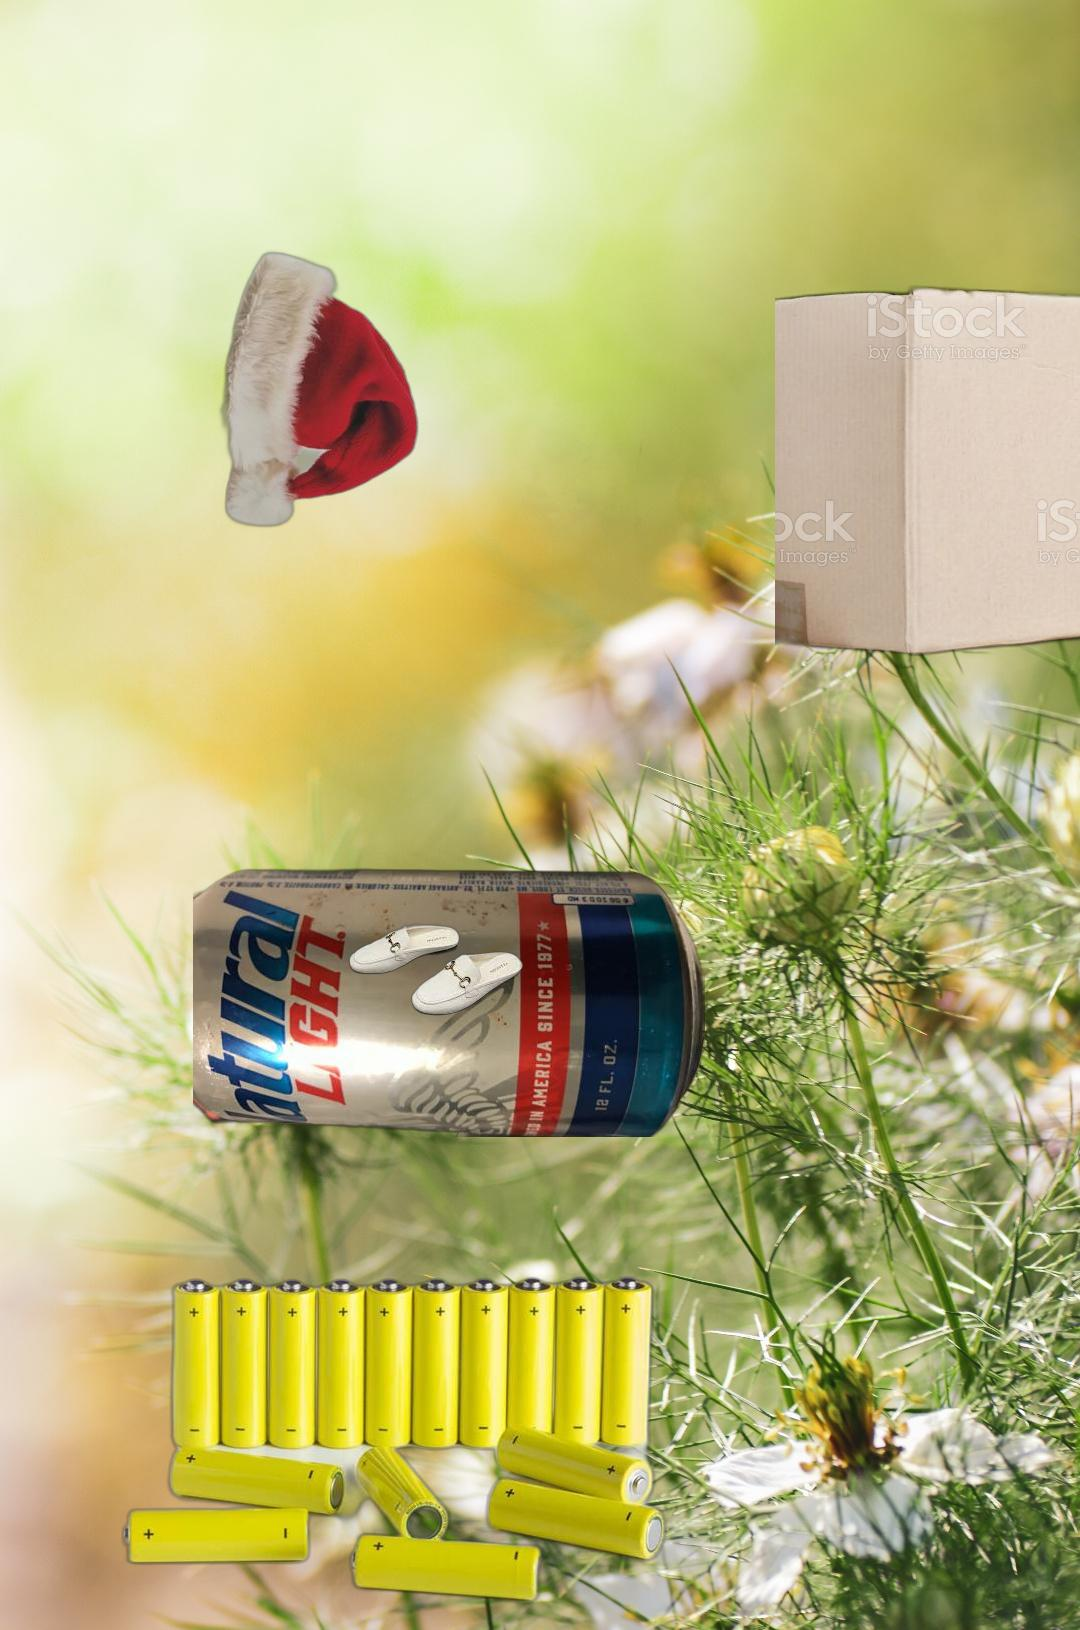battery: (115, 1272, 673, 1607)
metal-cans: (193, 867, 705, 1137)
paper: (218, 248, 642, 537)
paper-bag: (1075, 935, 1080, 1201)
shoes: (346, 920, 526, 1018)
trashbox-cardboard: (775, 281, 1080, 663)
